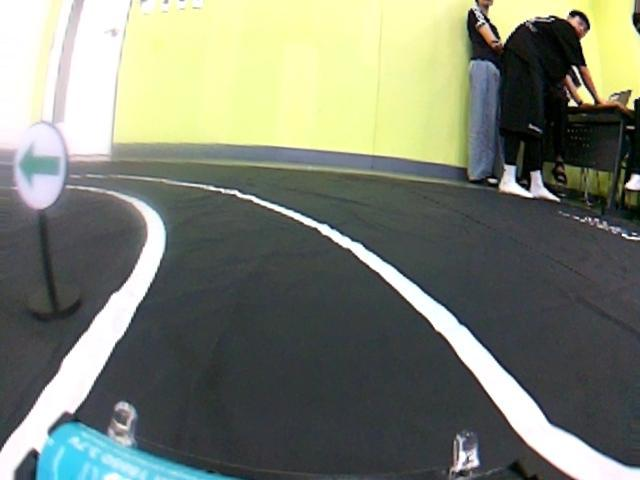sign_left: (6, 121, 78, 212)
straight: (95, 228, 640, 479)
